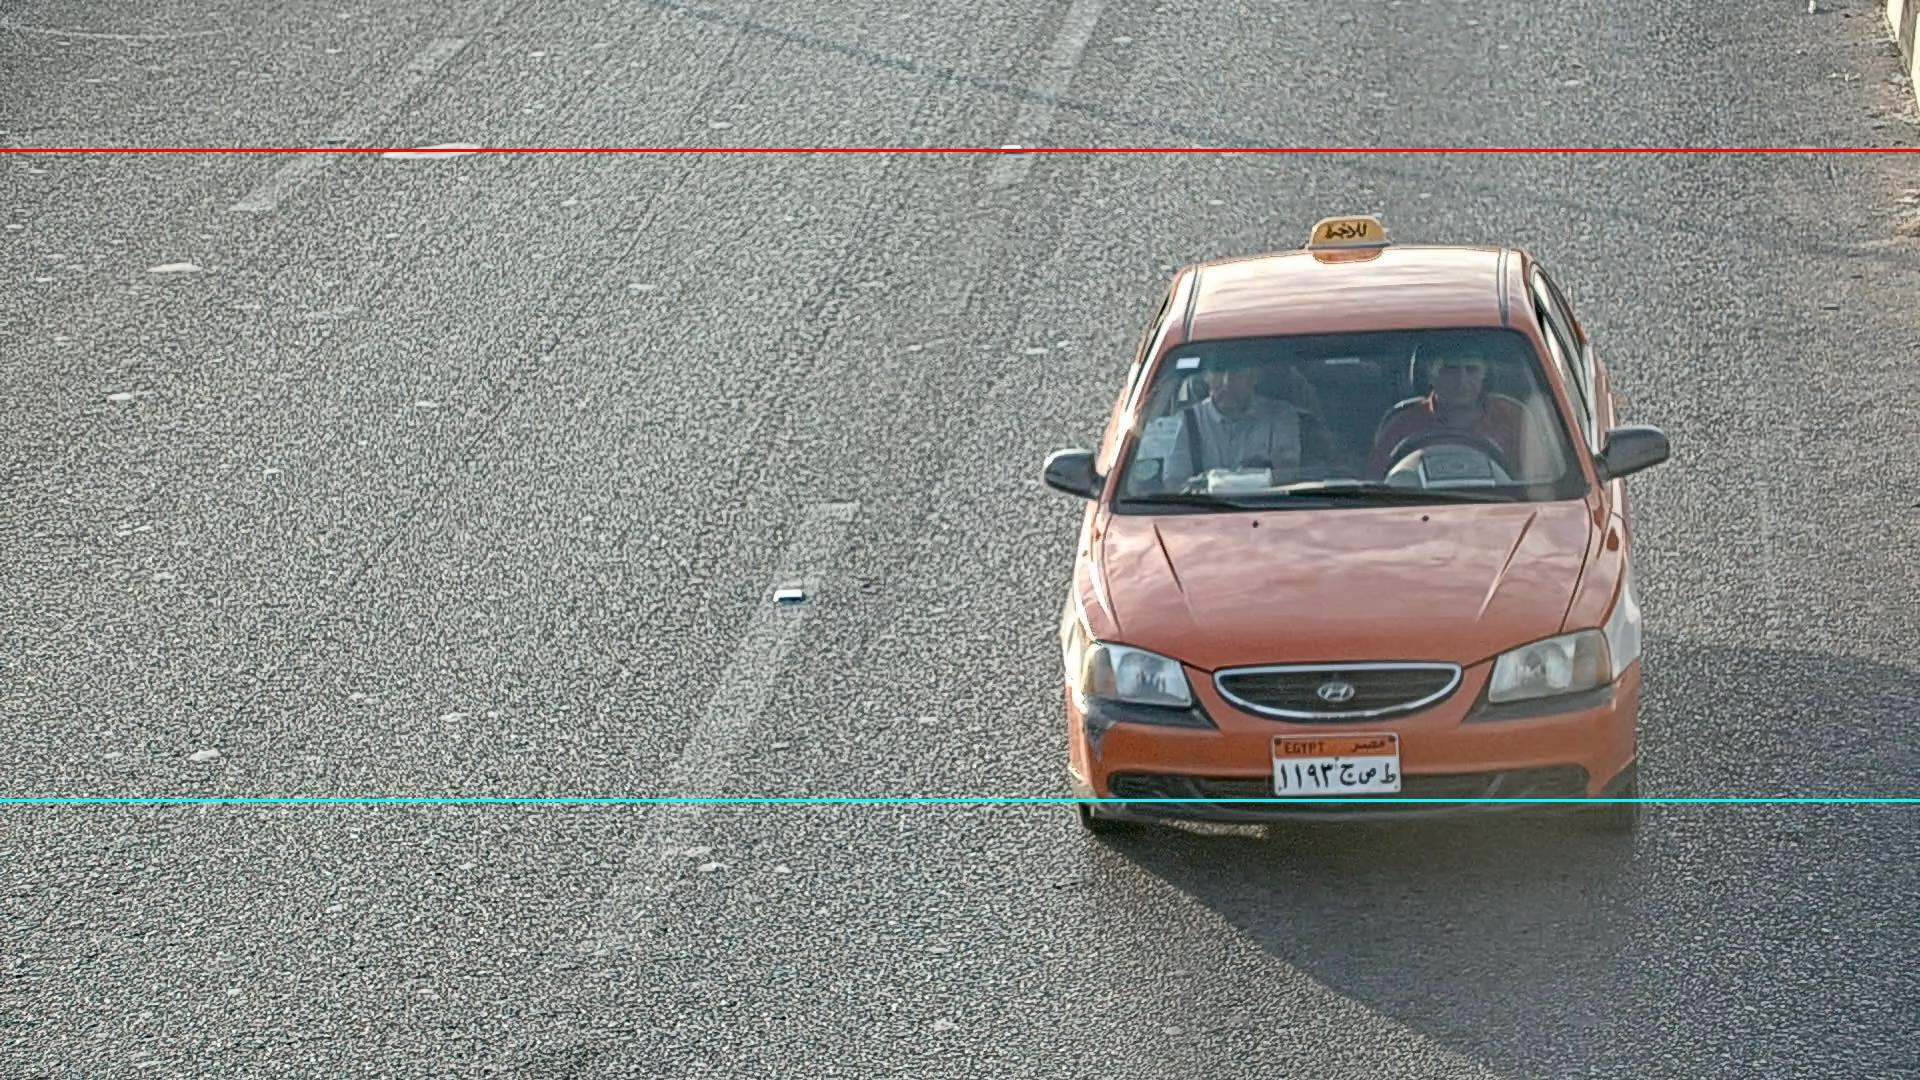windshield: (1101, 314, 1594, 510)
